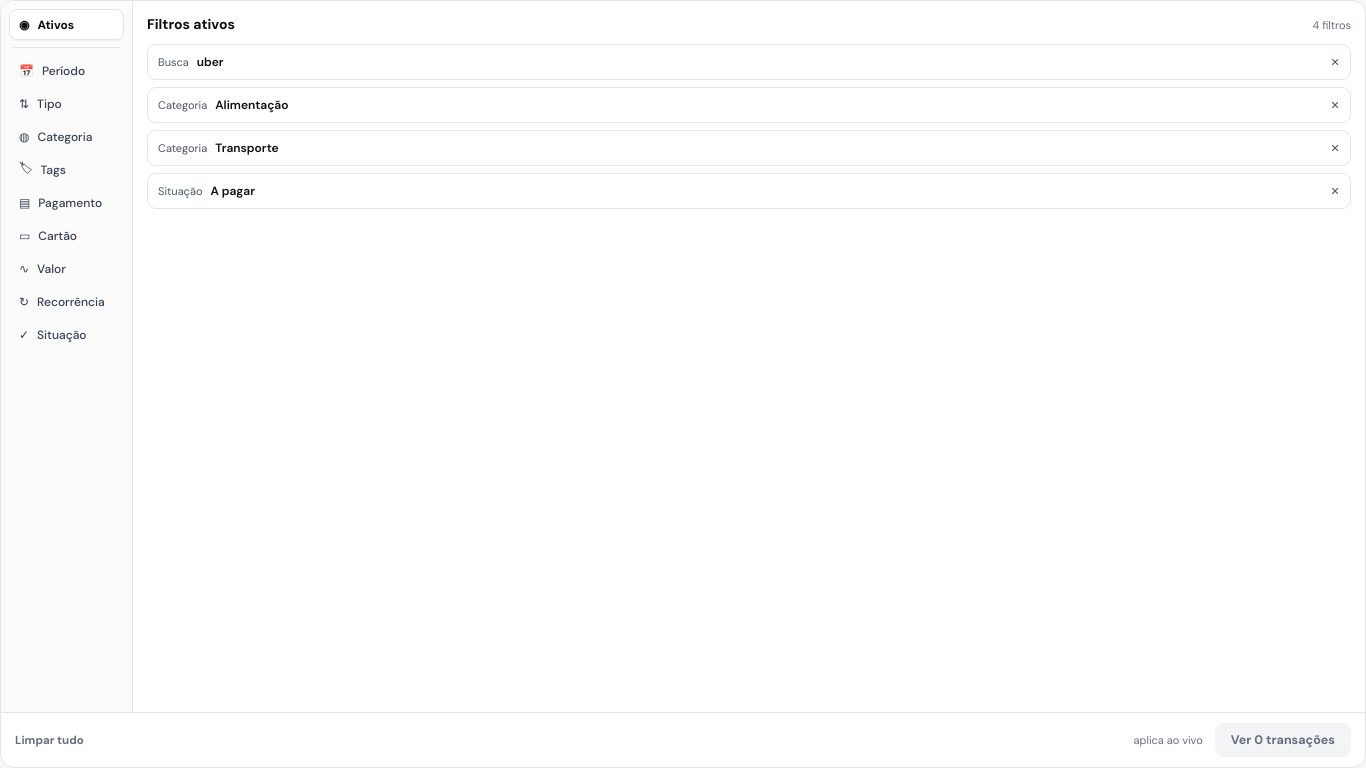
Test case: <ActiveFacetsPane> — clique no corpo › o rótulo aparece também para quem chega pelo teclado
Focus the button with aria-label "Ir para o filtro Categoria: Transporte" at (183, 148), box [148,131,1316,165]
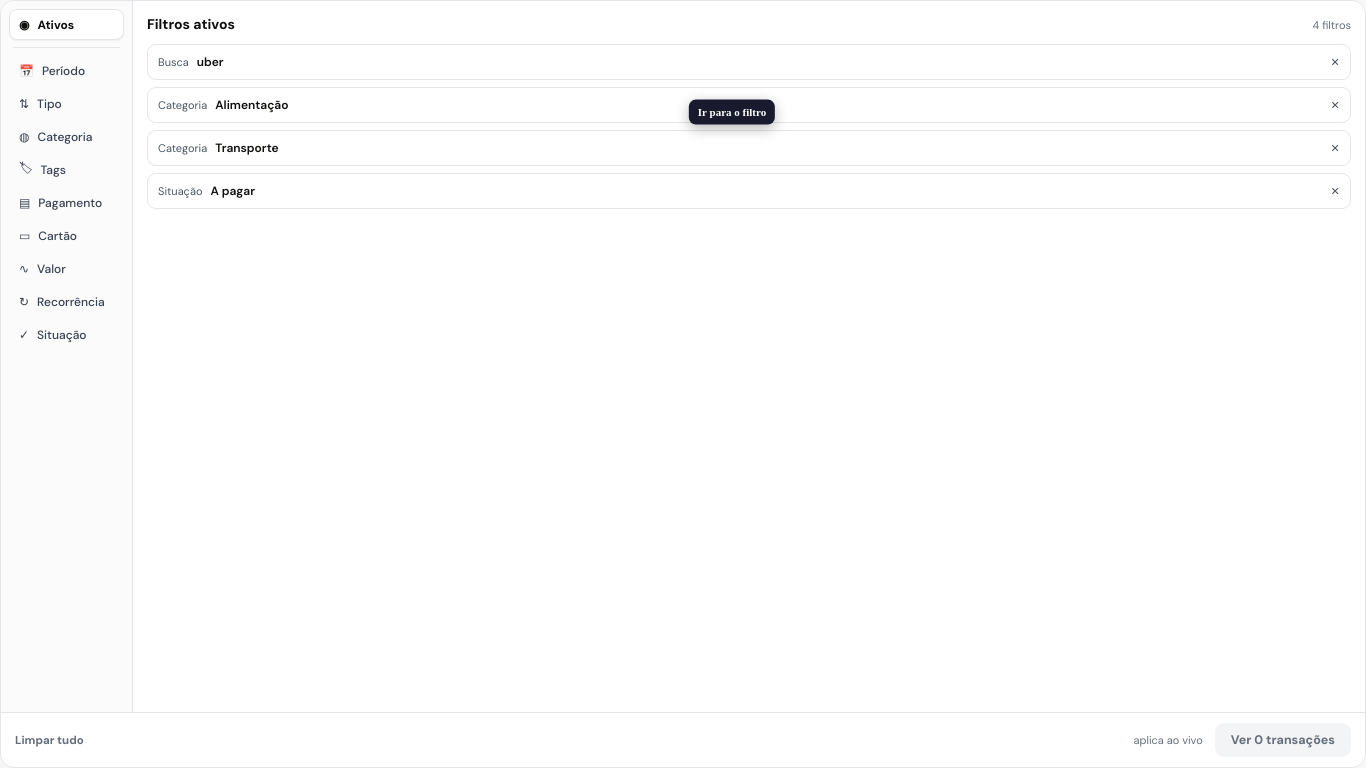
Result: the tooltip reads "Ir para o filtro" at [698,106,766,118]
Leave the button with aria-label "Ir para o filtro Categoria: Transporte", box [148,131,1316,165]
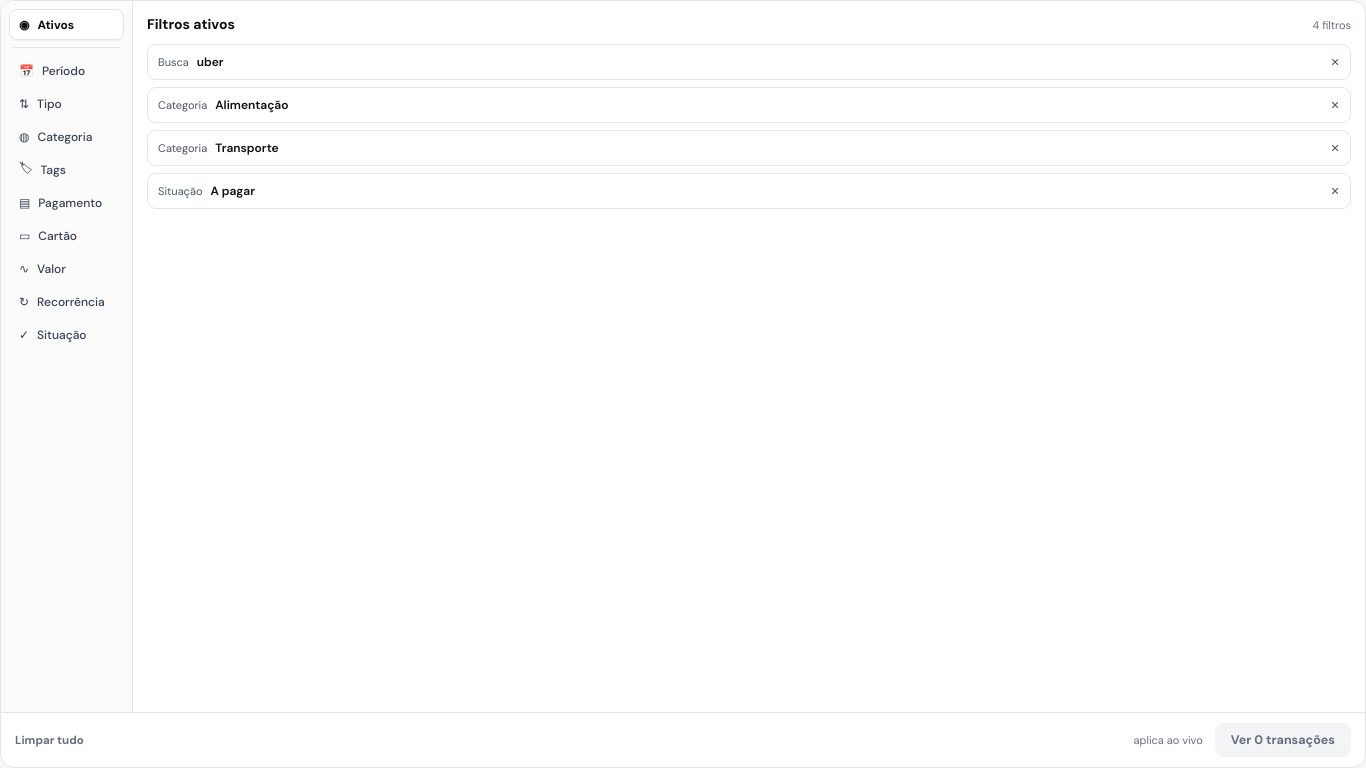
Result: the tooltip "Ir para o filtro" is gone
